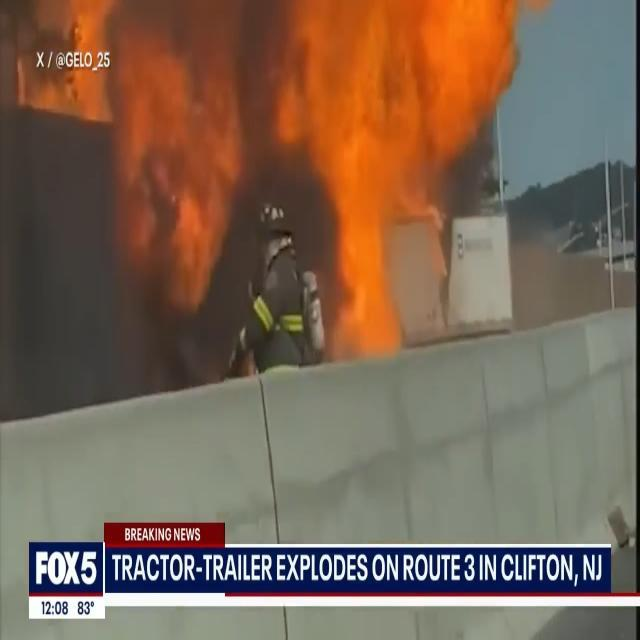fire: (108, 0, 233, 304), (302, 2, 516, 162), (324, 145, 411, 349)
